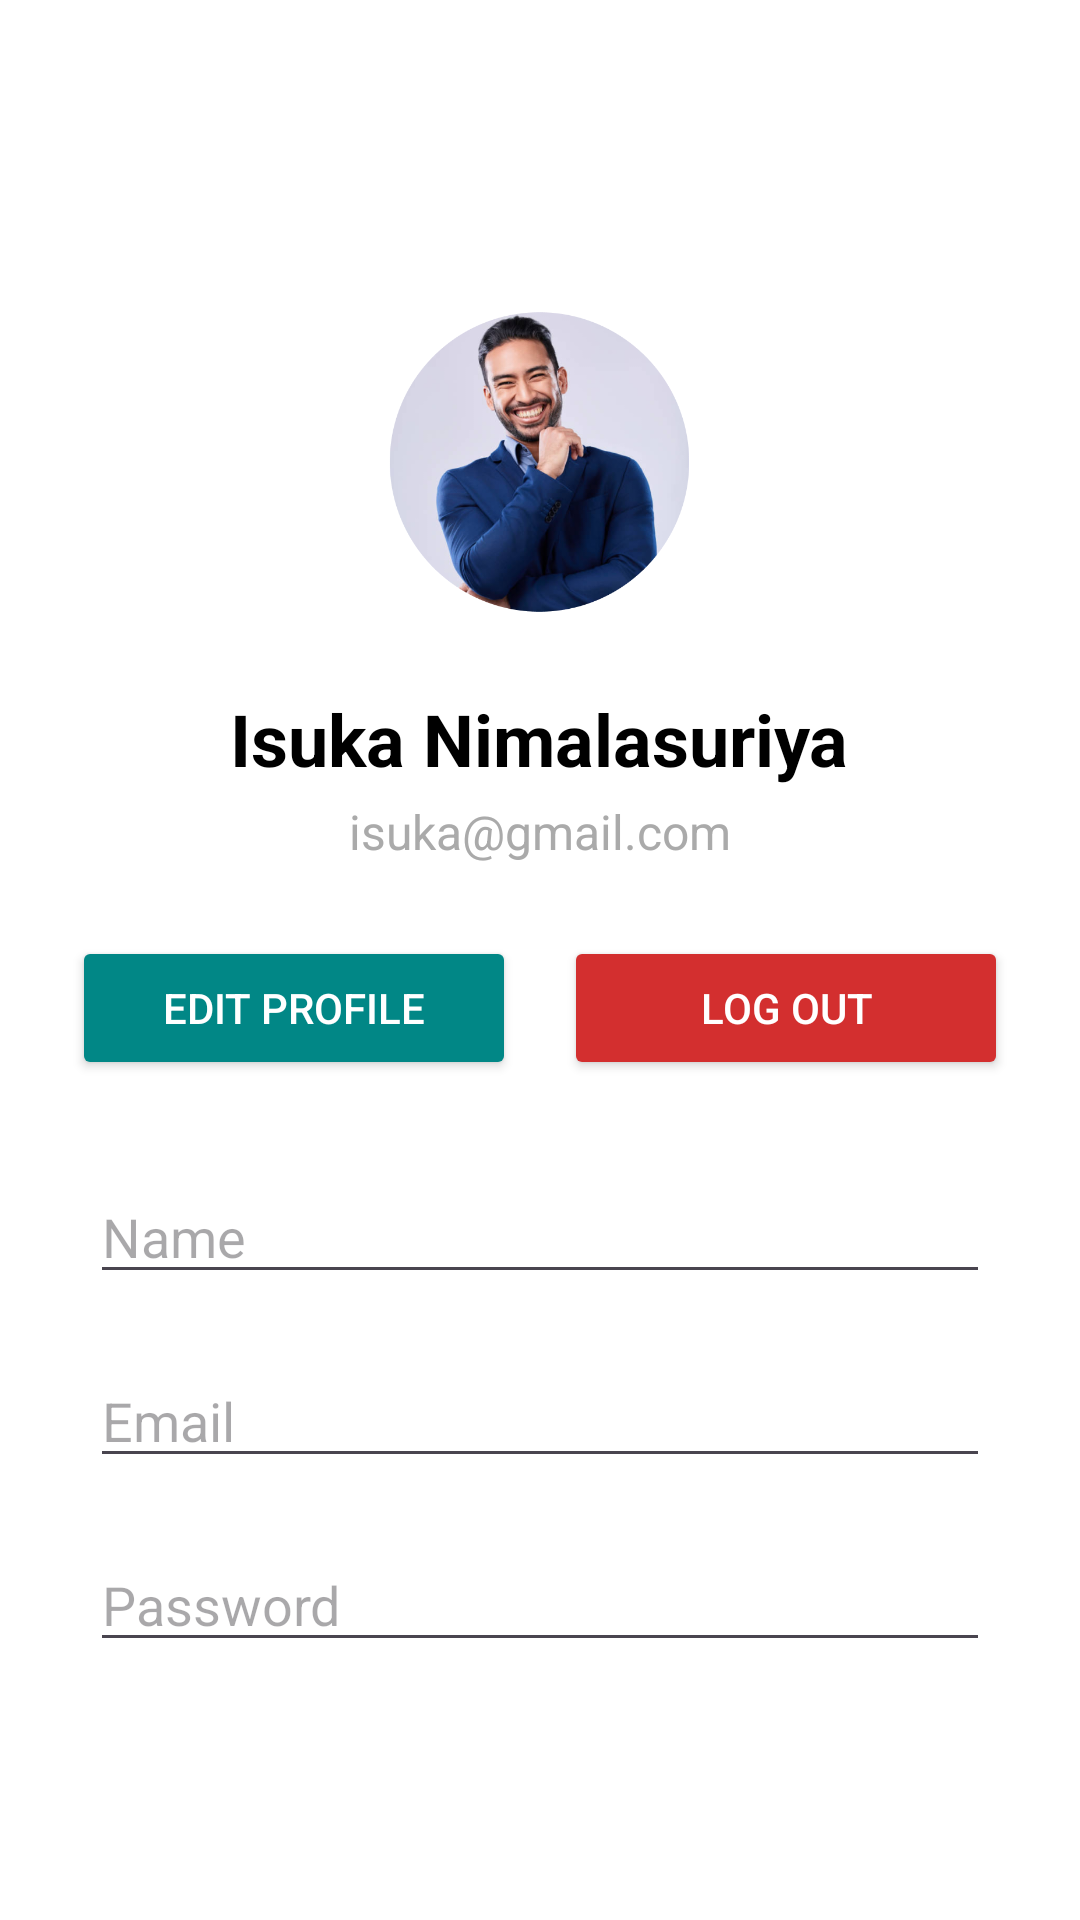

Where icons sit on this 1080w x 1920h app screen, as (x1, y1, x2, y2):
Profile Picture: (390, 312, 689, 612)
